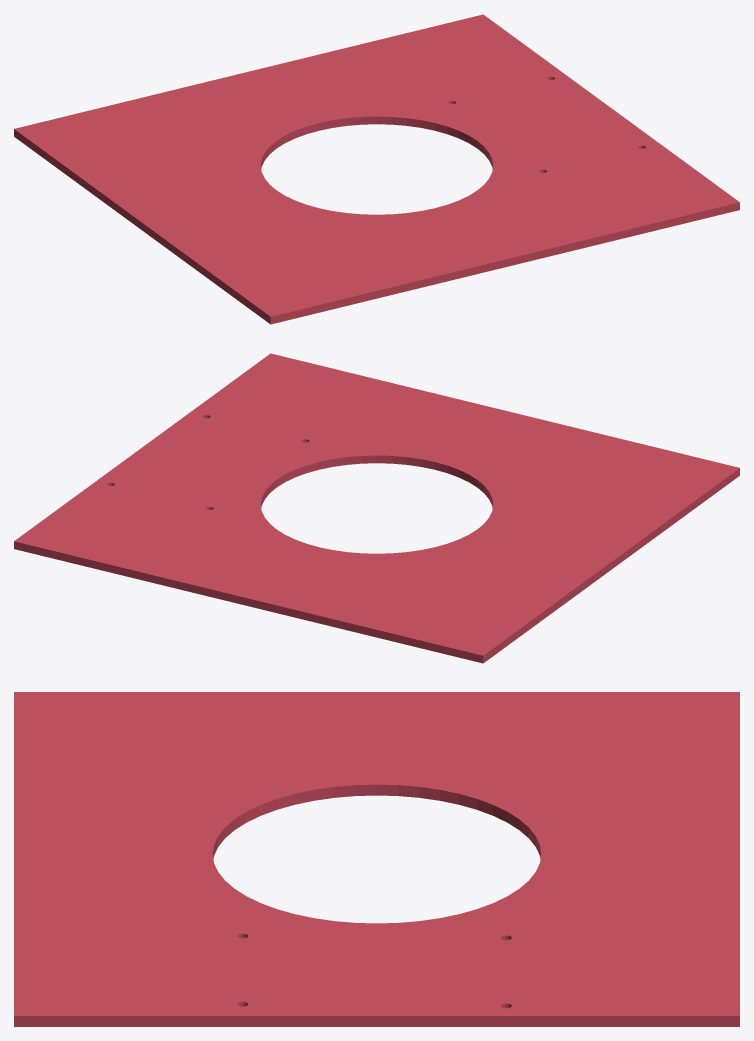
The model's file is chassis.glb.
3 views of the same model, one above another, from view 1: azimuth 30°, elevation 25°; view 2: azimuth 150°, elevation 25°; view 3: azimuth 270°, elevation 25° (orthographic). The views are drawn at different scales.
Parts seen in each view (by area): view 1: Mesh_Mesh_head_geo.001_lambert2SG.001; view 2: Mesh_Mesh_head_geo.001_lambert2SG.001; view 3: Mesh_Mesh_head_geo.001_lambert2SG.001.
Part boxes in pixels (box(x1,y1,x2,y2)): Mesh_Mesh_head_geo.001_lambert2SG.001: box(14, 14, 739, 324); Mesh_Mesh_head_geo.001_lambert2SG.001: box(14, 353, 739, 663); Mesh_Mesh_head_geo.001_lambert2SG.001: box(14, 692, 739, 1026).
Bounding box in the file's own units: 0.19 × 0.003 × 0.18.
